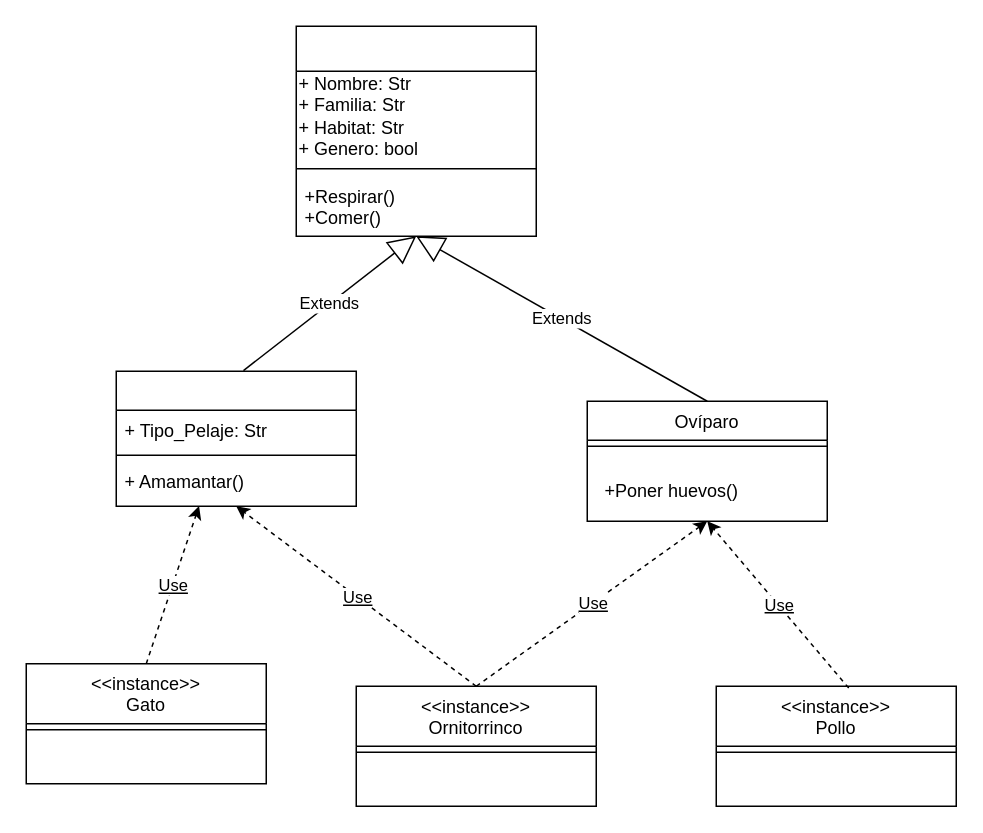
The diagram is 983 pixels wide and 833 high, and some of its shapes have lost their labels. The shapes that lost their labels are listed below. From the top down, each one's box as (x1, y1, x2, y2) in pixels, then its label:
(295, 25, 536, 236): Animal
(115, 370, 356, 506): Mamifero
